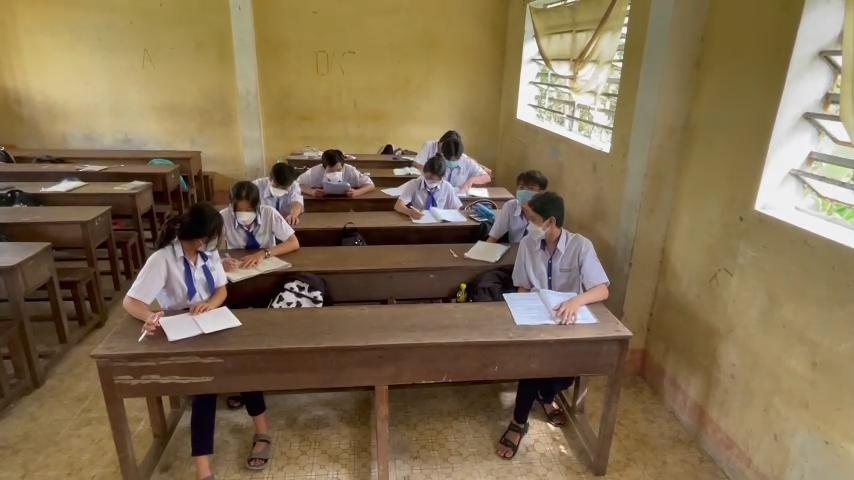Hand Under Table: (507, 236, 536, 296), (485, 191, 514, 251), (440, 174, 465, 215)
Look Around: (159, 200, 228, 257), (520, 187, 575, 243)
Normal: (227, 179, 266, 239)
